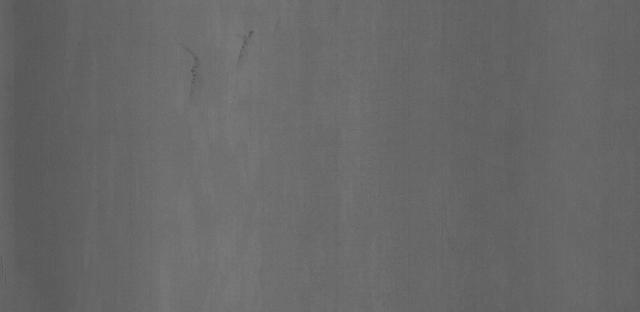water_spot: (175, 18, 263, 116)
